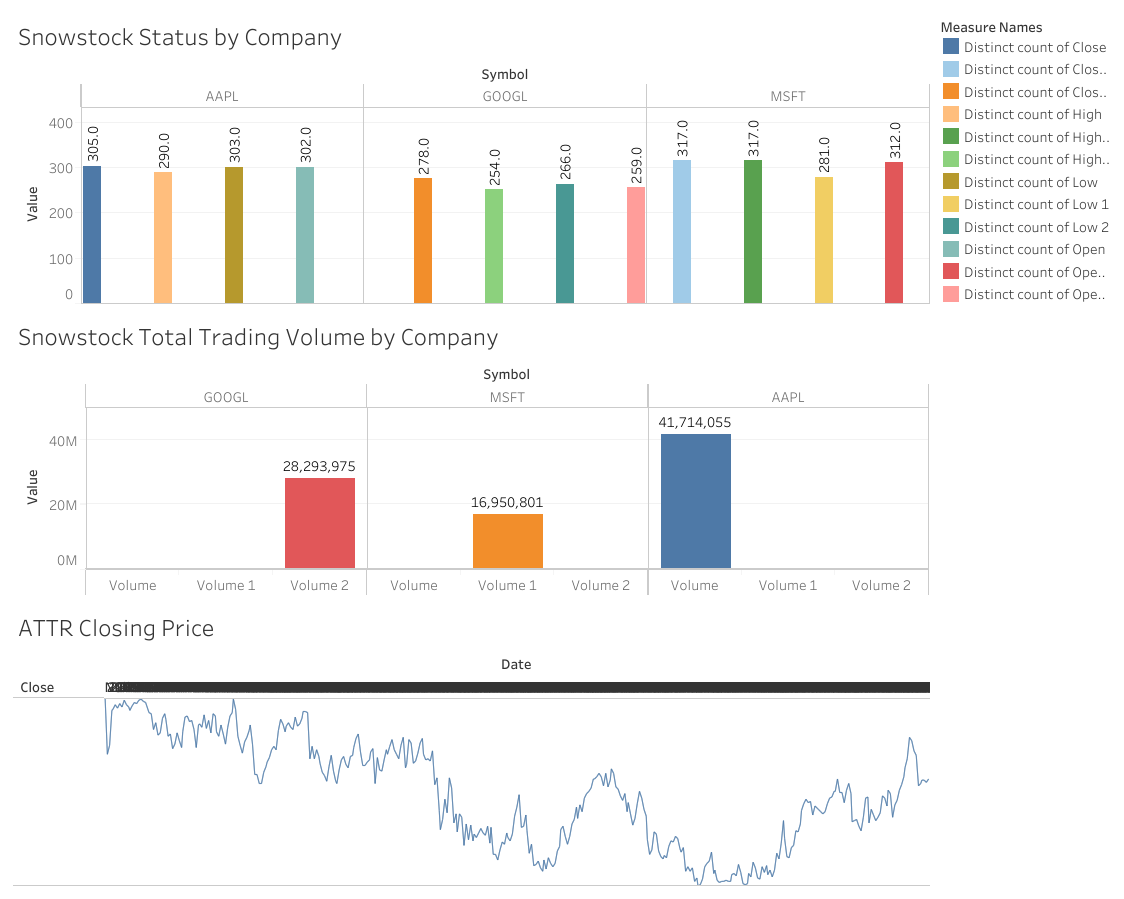

This screenshot's page, from the dashboard's own definition file:
{"tool":"tableau","page":{"name":"SnowstockDashboard01","canvas":[1000,800],"ordinal":0},"visuals":[{"type":"worksheet","title":"Snowstock-SymbolStats","mark":"Automatic","cols":["Symbol"],"box":[8,8,823,267]},{"type":"legend","title":"Snowstock-SymbolStats","param":"[federated.0t8lk740w2zw4i1aqcetw15ji7r8].[:Measure Names]","box":[831,8,161,267]},{"type":"worksheet","title":"Snowstock-Total","mark":"Automatic","cols":["Symbol"],"box":[8,275,823,258]},{"type":"worksheet","title":"attr_c","mark":"Area","rows":["Close"],"cols":["Date"],"box":[8,533,823,259]}]}

Visuals, with their boxes in screenshot pixels (x1, y1, x2, y2), scaled from the page's 1000x800 canvas onto the 1124x899 screenshot:
"Snowstock-SymbolStats" worksheet: <bbox>9, 9, 934, 309</bbox>
"Snowstock-SymbolStats" legend: <bbox>934, 9, 1115, 309</bbox>
"Snowstock-Total" worksheet: <bbox>9, 309, 934, 599</bbox>
"attr_c" worksheet (Area marks): <bbox>9, 599, 934, 890</bbox>
